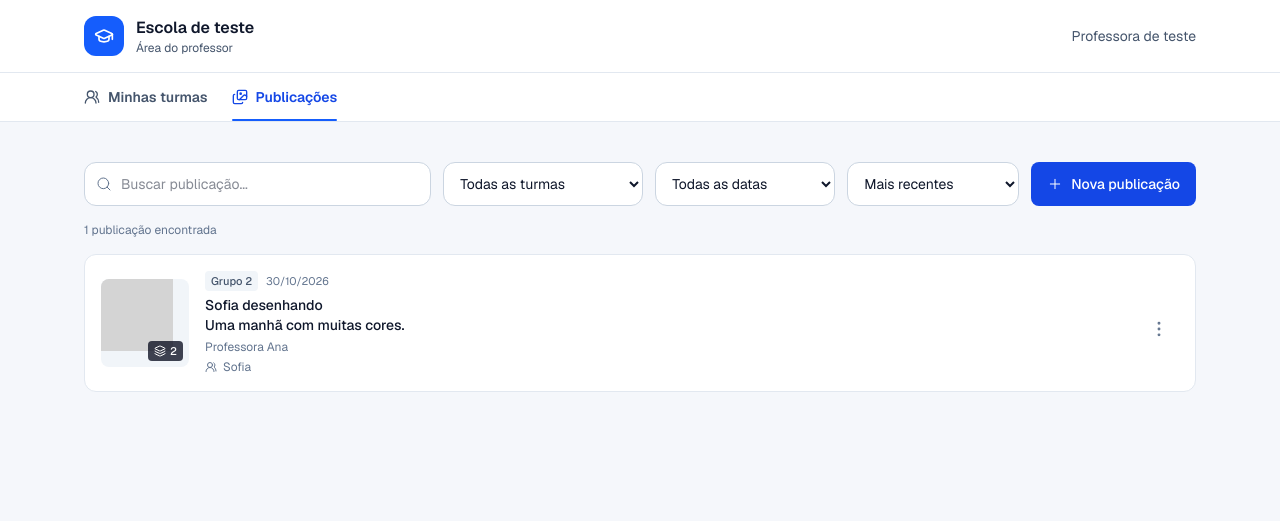
workspace integrated with existing API contracts › does not trust stale can_manage values when opening edit
The image size is (1280, 521).
Click the button named "Ações da publicação: Sofia": (1159, 329) [1139,309,1179,349]
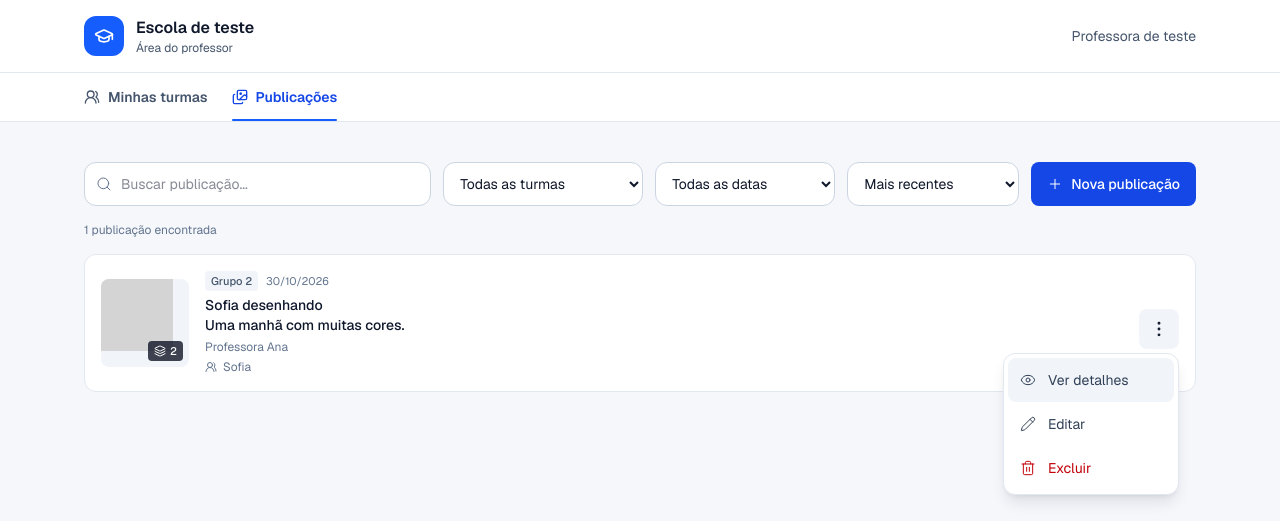
Click the menu item "Editar": (1091, 424) [1008,402,1174,446]
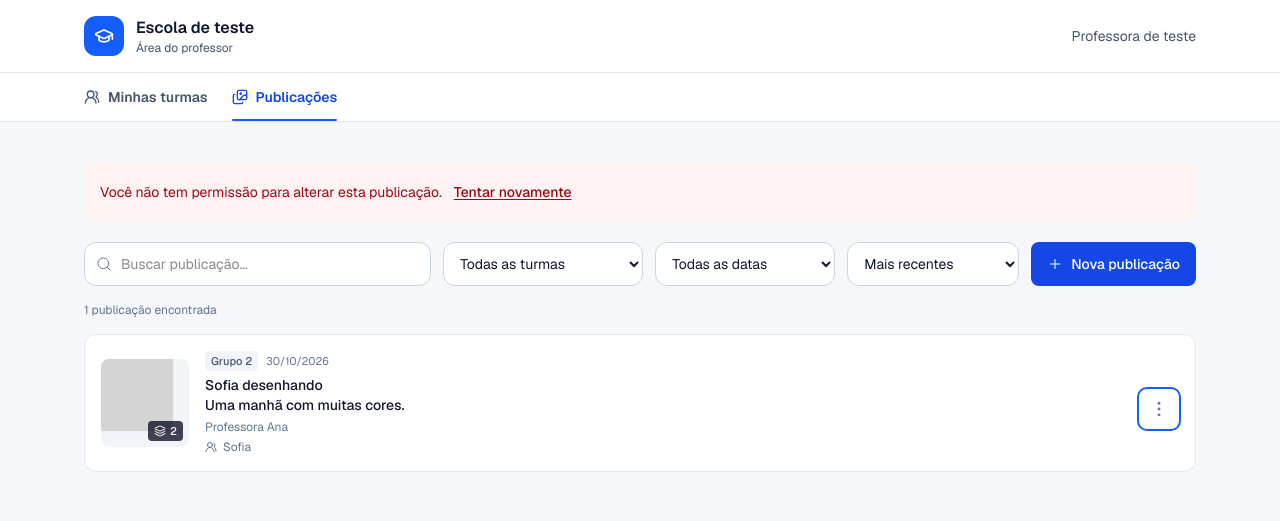
Expected: the message shows "permissão", [100,183,442,201]
